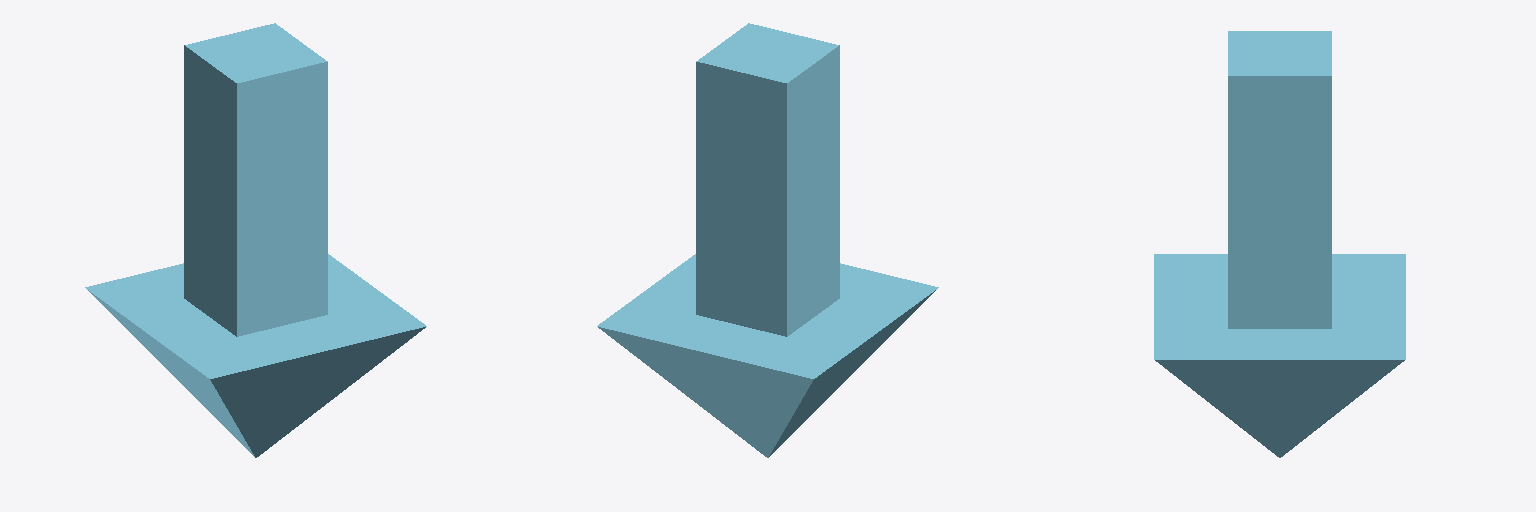
Rendered from arrow.obj.
3 renders of one model, left to right at view 1: azimuth 30°, elevation 25°; view 2: azimuth 150°, elevation 25°; view 3: azimuth 270°, elevation 25°, orthographic.
Visible parts, largest first — view 1: Box001; view 2: Box001; view 3: Box001.
Boxes of the visible parts, box(x1,y1,x2,y2) form: Box001: box(85, 23, 426, 457); Box001: box(597, 23, 938, 457); Box001: box(1154, 31, 1405, 457).
Bounding box in the file's own units: 14.14 × 25.19 × 14.14.